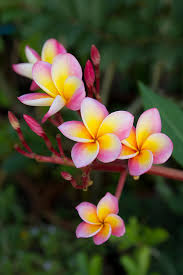frangipani: (59, 99, 133, 170)
